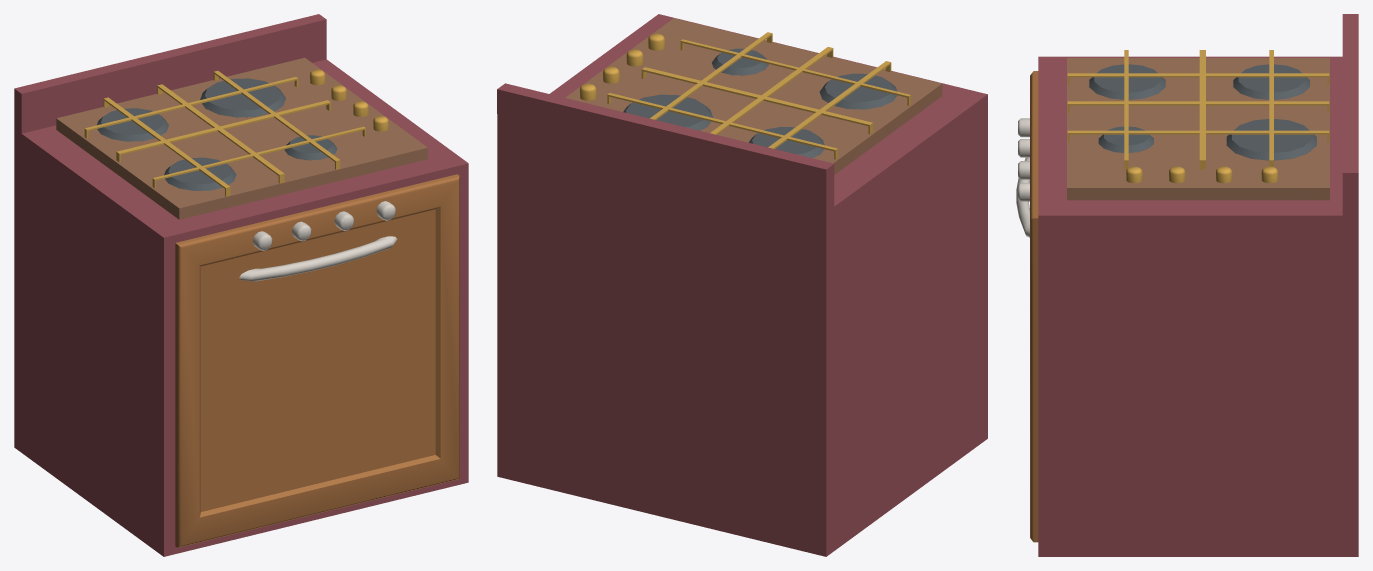
The model's file is Macchina del gas modulare.fbx.
3 views of the same model, side by side, from view 1: azimuth 30°, elevation 25°; view 2: azimuth 150°, elevation 25°; view 3: azimuth 270°, elevation 25° (orthographic). The views are drawn at different scales.
Visible parts, largest first — view 1: polySurface8; view 2: polySurface8; view 3: polySurface8.
Boxes of the visible parts, left/top/right/bottom form: polySurface8: left=14, top=14, right=468, bottom=556; polySurface8: left=497, top=14, right=987, bottom=556; polySurface8: left=1016, top=14, right=1358, bottom=556.
Bounding box in the file's own units: 2 × 2.25 × 1.82.
